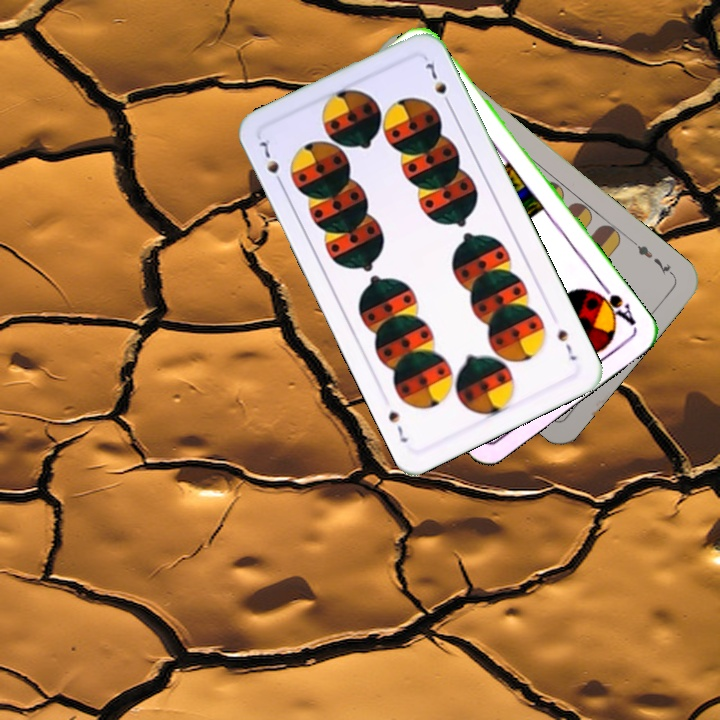E7: (628, 236, 677, 279)
S7: (255, 134, 286, 190), (553, 325, 579, 364)
SA: (588, 278, 639, 329)
